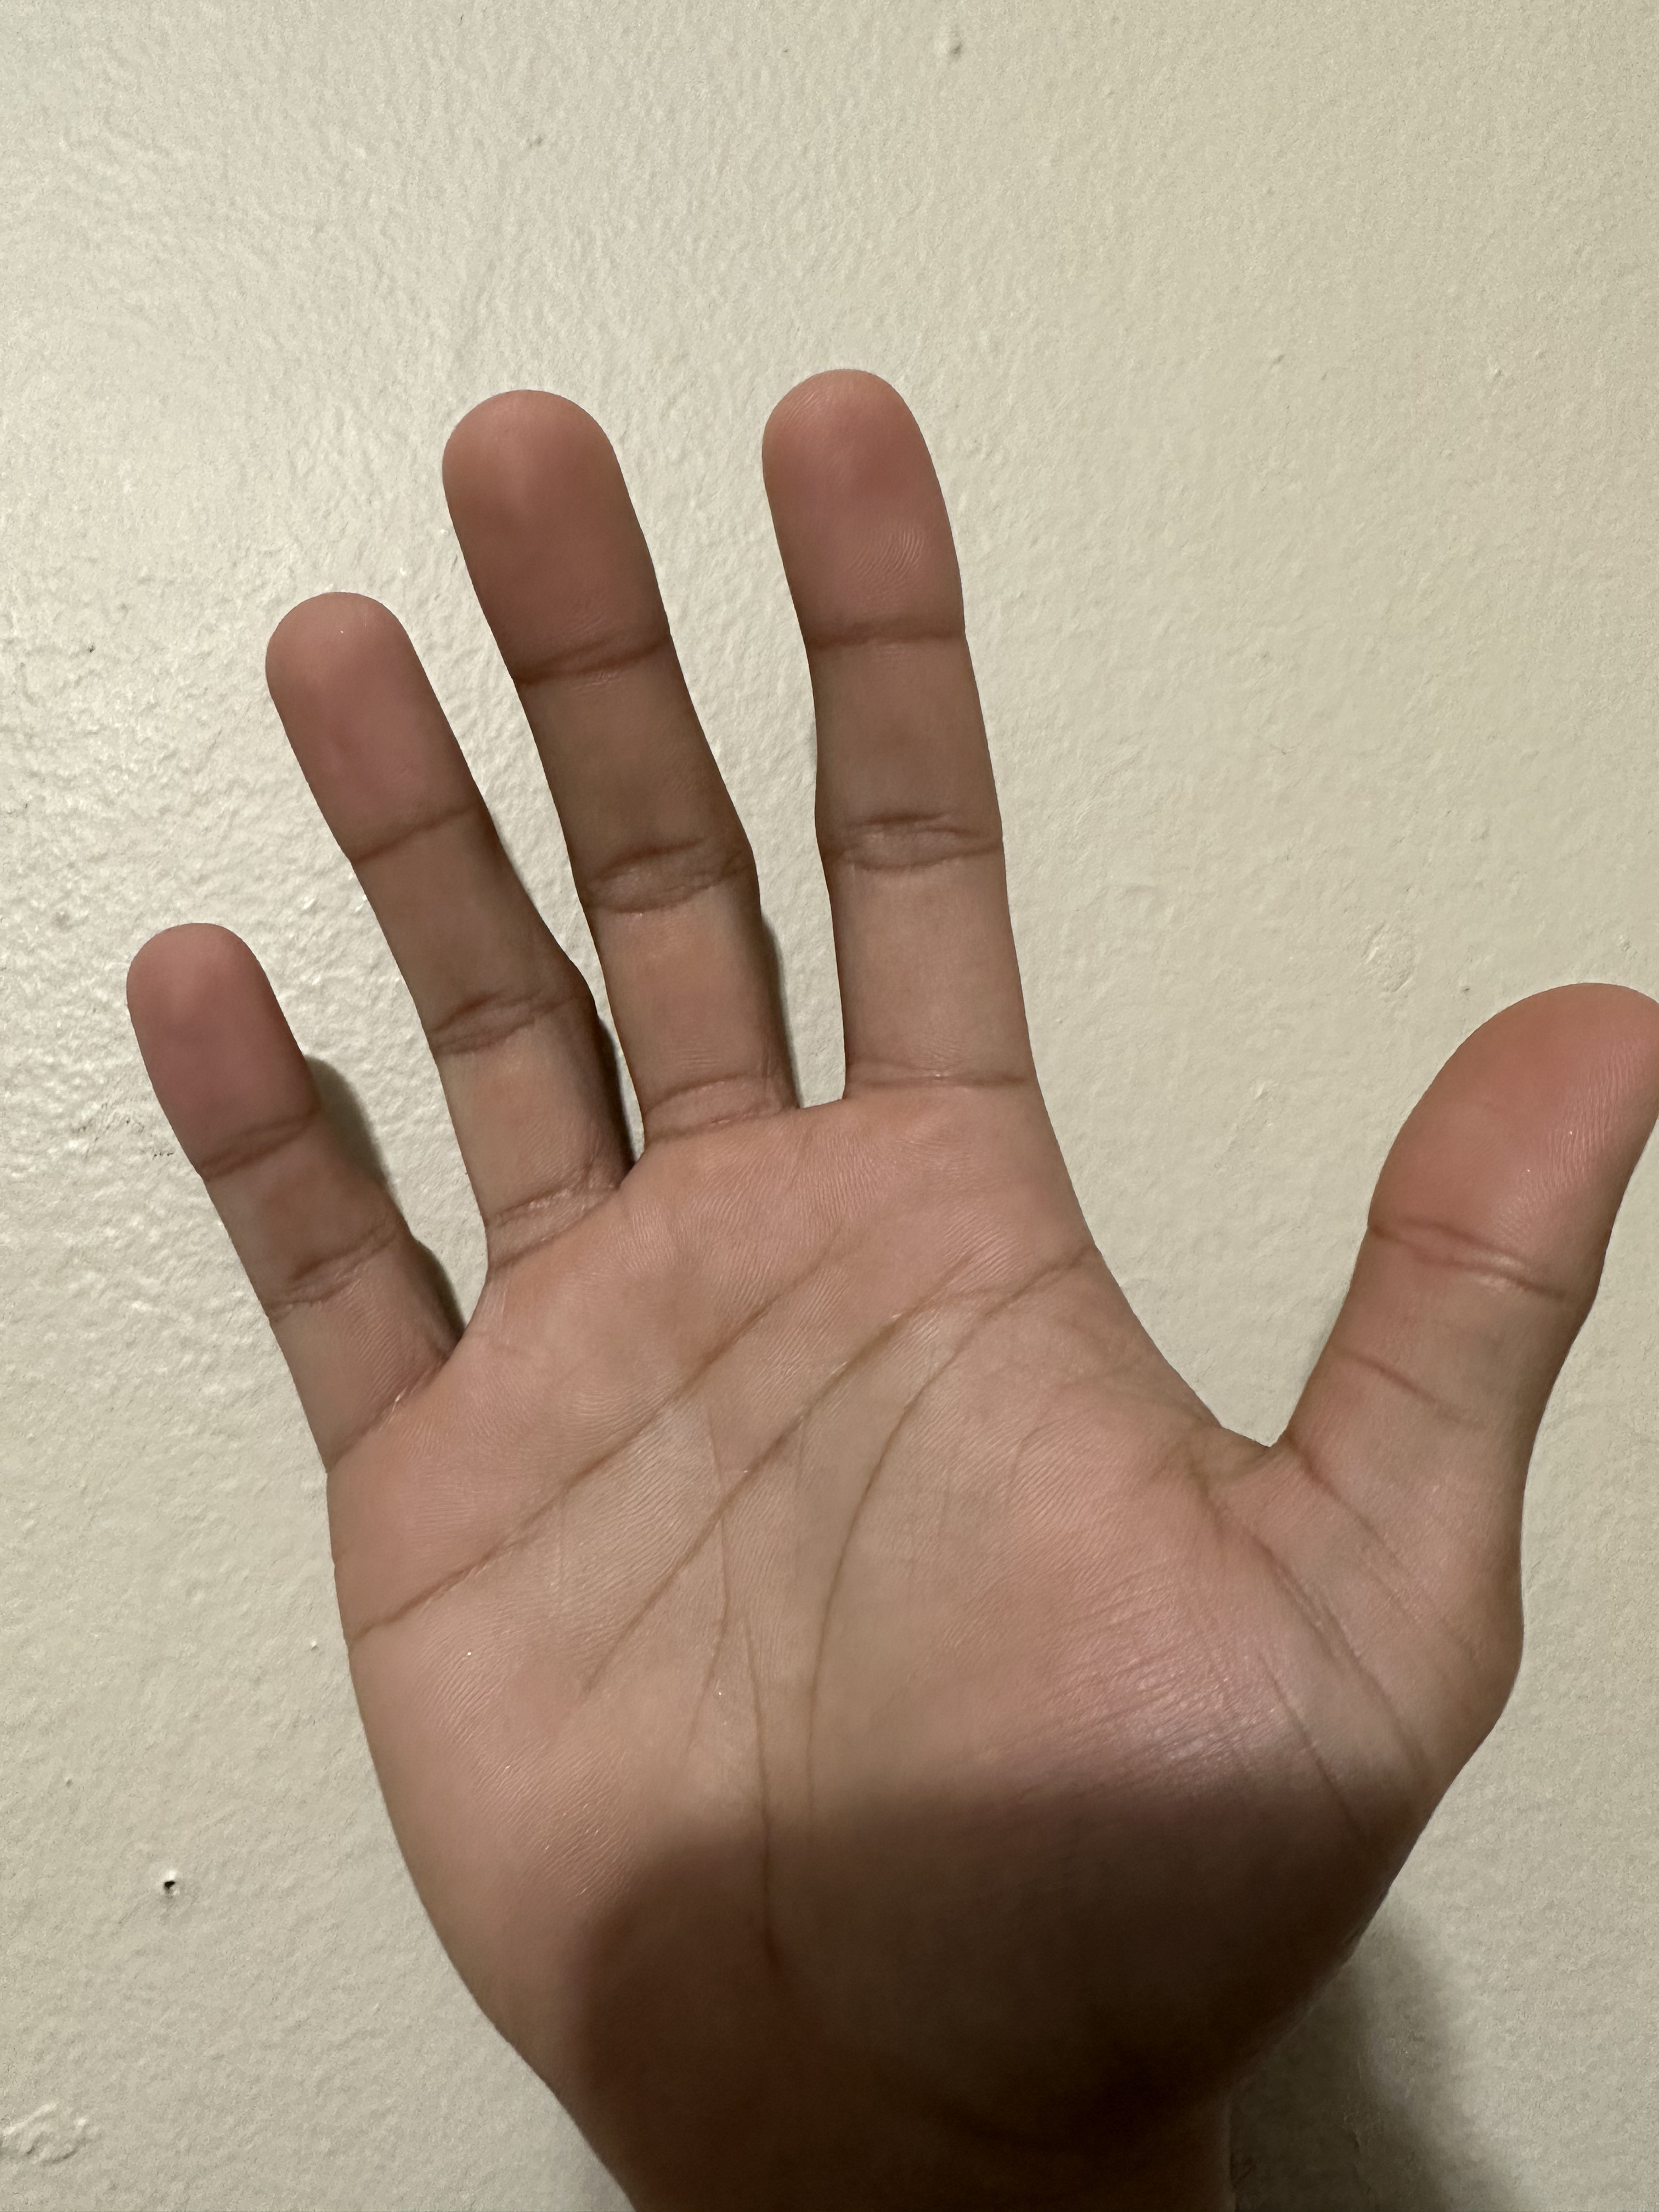finger: (1392, 935, 1659, 1264), (739, 324, 993, 637), (429, 343, 678, 653), (218, 557, 457, 829), (98, 892, 324, 1139)
